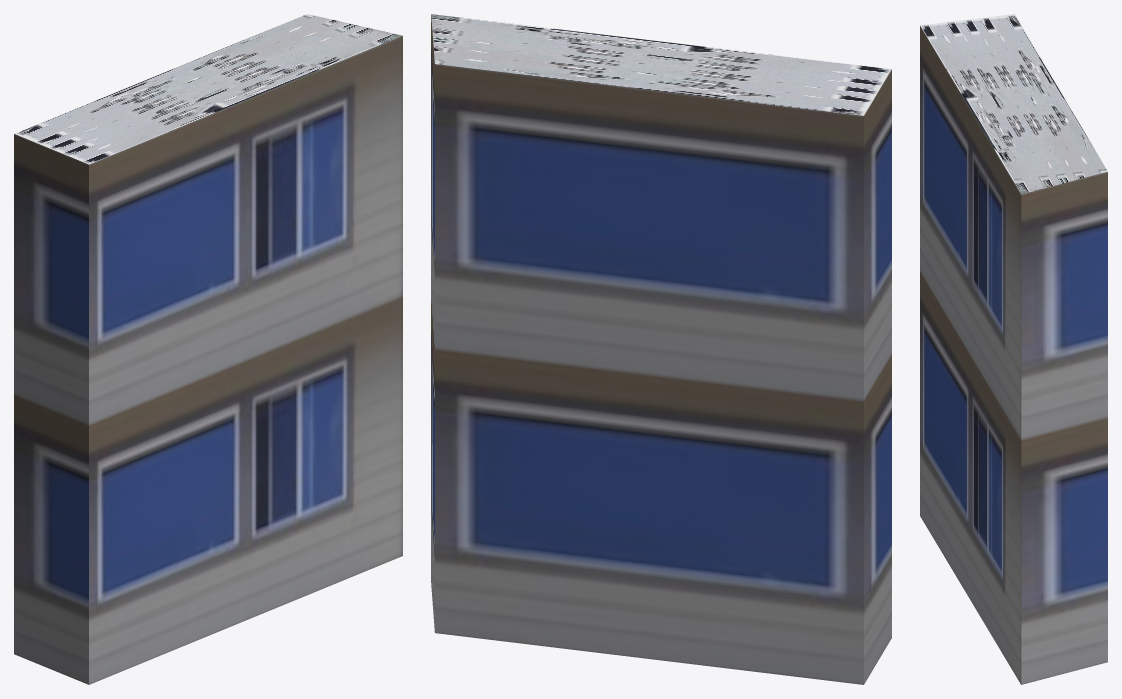
Rendered from ResTex__2840.fbx.
The picture shows the model from 3 angles, left to right: view 1: azimuth 30°, elevation 25°; view 2: azimuth 150°, elevation 25°; view 3: azimuth 270°, elevation 25°; orthographic projection. The views are drawn at different scales.
Visible parts, largest first — view 1: CityEngineMaterial_23_m, CityEngineMaterial_8_m; view 2: CityEngineMaterial_23_m, CityEngineMaterial_8_m; view 3: CityEngineMaterial_23_m, CityEngineMaterial_8_m.
Part boxes in pixels (<box>): CityEngineMaterial_23_m: <box>14,35,402,684</box>; CityEngineMaterial_8_m: <box>14,14,402,164</box>; CityEngineMaterial_23_m: <box>431,14,891,684</box>; CityEngineMaterial_8_m: <box>431,14,891,115</box>; CityEngineMaterial_23_m: <box>920,26,1107,684</box>; CityEngineMaterial_8_m: <box>920,14,1107,194</box>.
Size of the model in its own units: 4.73 by 6 by 2.08.
Materials: 2 (2 with a texture image).
